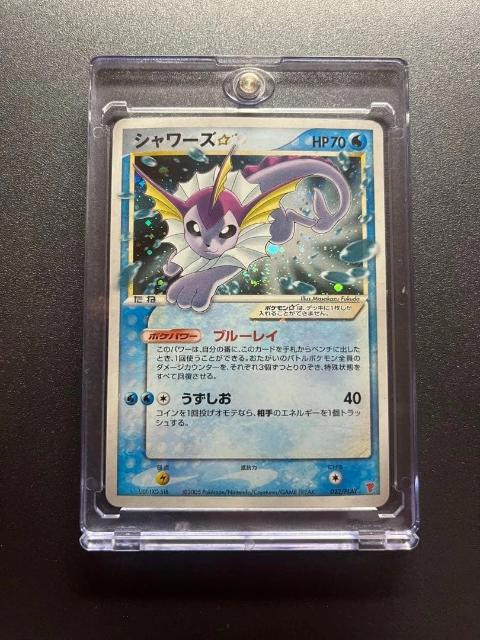Card: (102, 111, 394, 512)
Name: (129, 129, 244, 153)
